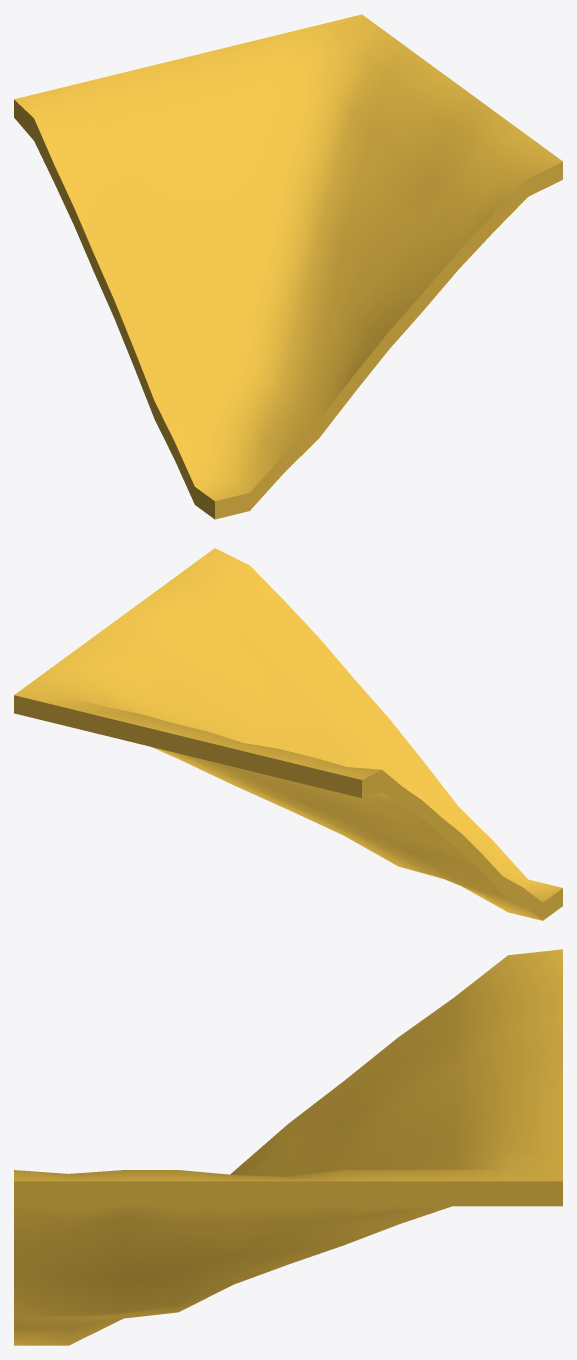
File: Steil - Mitte - Ecke Invertiert a - a.fbx
3 renders of one model, top to bottom at view 1: azimuth 30°, elevation 25°; view 2: azimuth 150°, elevation 25°; view 3: azimuth 270°, elevation 25°, orthographic. The views are drawn at different scales.
Visible parts, largest first — view 1: Steil - Mitte - Ecke Invertiert a - a; view 2: Steil - Mitte - Ecke Invertiert a - a; view 3: Steil - Mitte - Ecke Invertiert a - a.
Boxes of the visible parts, <box> form: Steil - Mitte - Ecke Invertiert a - a: <box>14,14,562,519</box>; Steil - Mitte - Ecke Invertiert a - a: <box>14,548,562,920</box>; Steil - Mitte - Ecke Invertiert a - a: <box>14,949,562,1345</box>.
Bounding box in the file's own units: 394 × 295 × 394.
